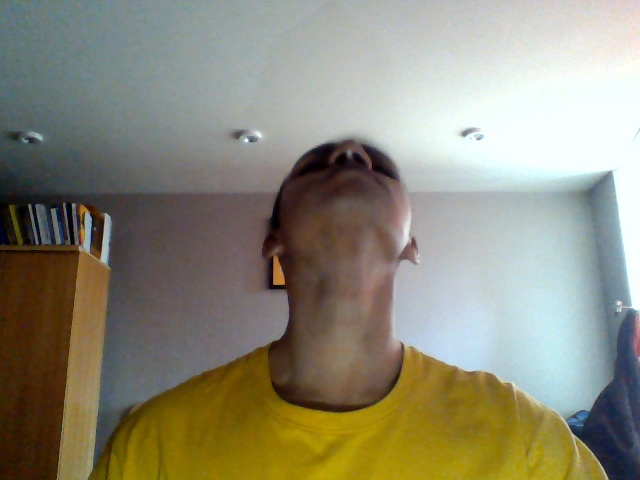no_mask: (267, 159, 428, 242)
